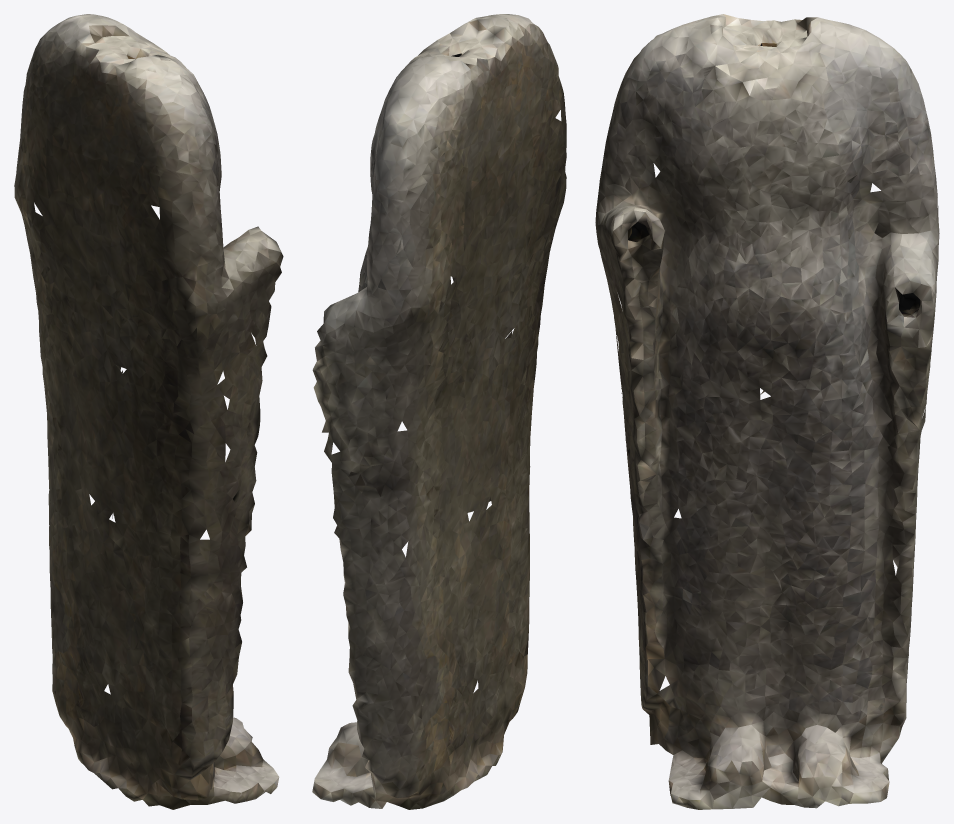
The model's file is cosmic.glb.
3 renders of one model, left to right at view 1: azimuth 30°, elevation 25°; view 2: azimuth 150°, elevation 25°; view 3: azimuth 270°, elevation 25°, orthographic.
Parts seen in each view (by area): view 1: Object_5; view 2: Object_5; view 3: Object_5.
Boxes of the visible parts, bbox=[...] form: Object_5: bbox=[14, 14, 283, 809]; Object_5: bbox=[312, 14, 566, 809]; Object_5: bbox=[595, 14, 939, 809].
Size of the model in its own units: 8.54 by 39.54 by 16.67.
1 material, 1 textured.
